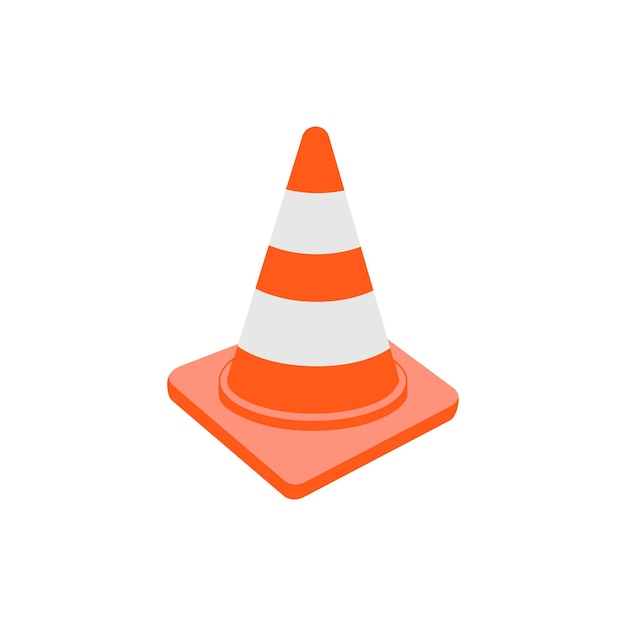Road_cone: (170, 126, 476, 502)
